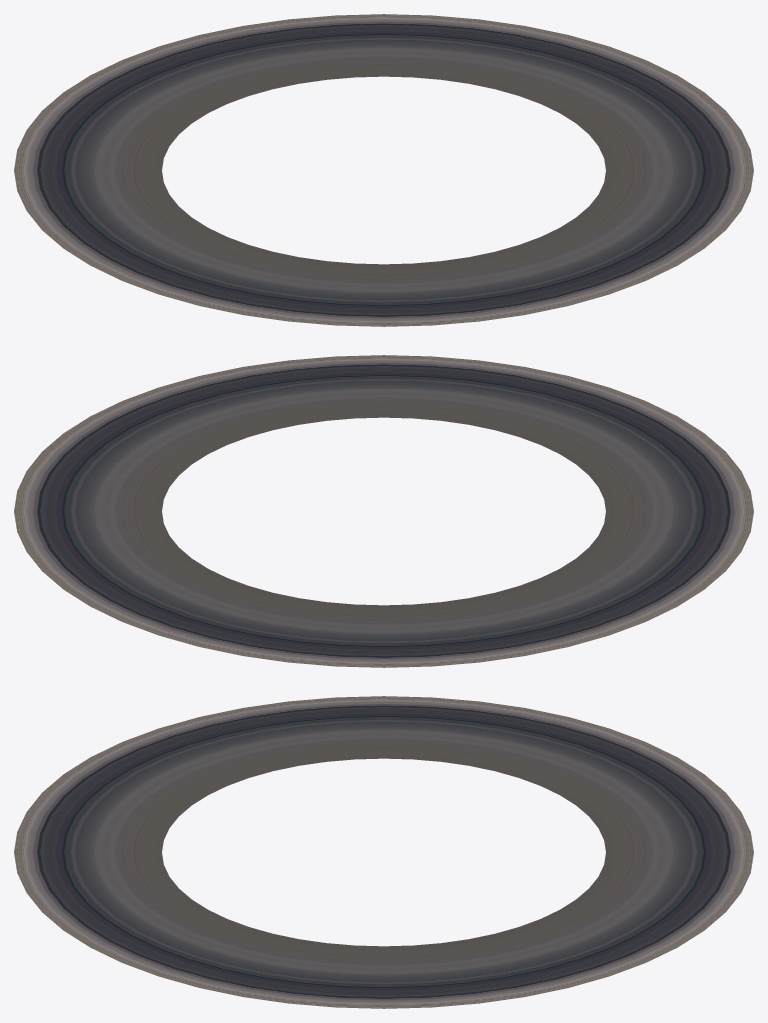
Rendered from SaturnRing.obj.
3 renders of one model, top to bottom at view 1: azimuth 30°, elevation 25°; view 2: azimuth 150°, elevation 25°; view 3: azimuth 270°, elevation 25°, orthographic.
Visible parts, largest first — view 1: Torus; view 2: Torus; view 3: Torus.
Part boxes in pixels (<box>): Torus: <box>14,14,753,326</box>; Torus: <box>14,355,753,667</box>; Torus: <box>14,696,753,1008</box>.
Size of the model in its own units: 32.5 by 0.05 by 32.5.
